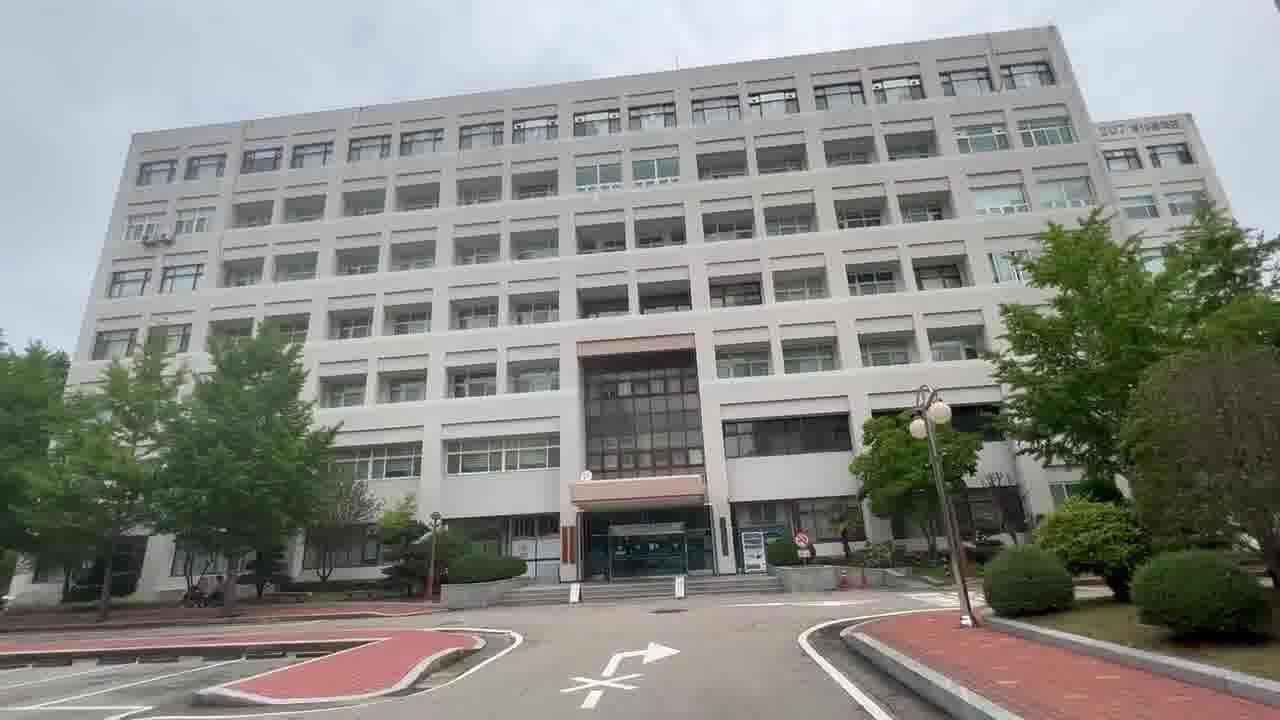building: (116, 52, 984, 376)
